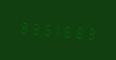eight: (17, 16, 27, 37), (72, 21, 82, 42)
one: (50, 19, 60, 40)
six: (39, 18, 49, 39), (61, 20, 71, 41)
three: (28, 17, 38, 38), (83, 22, 93, 43)
